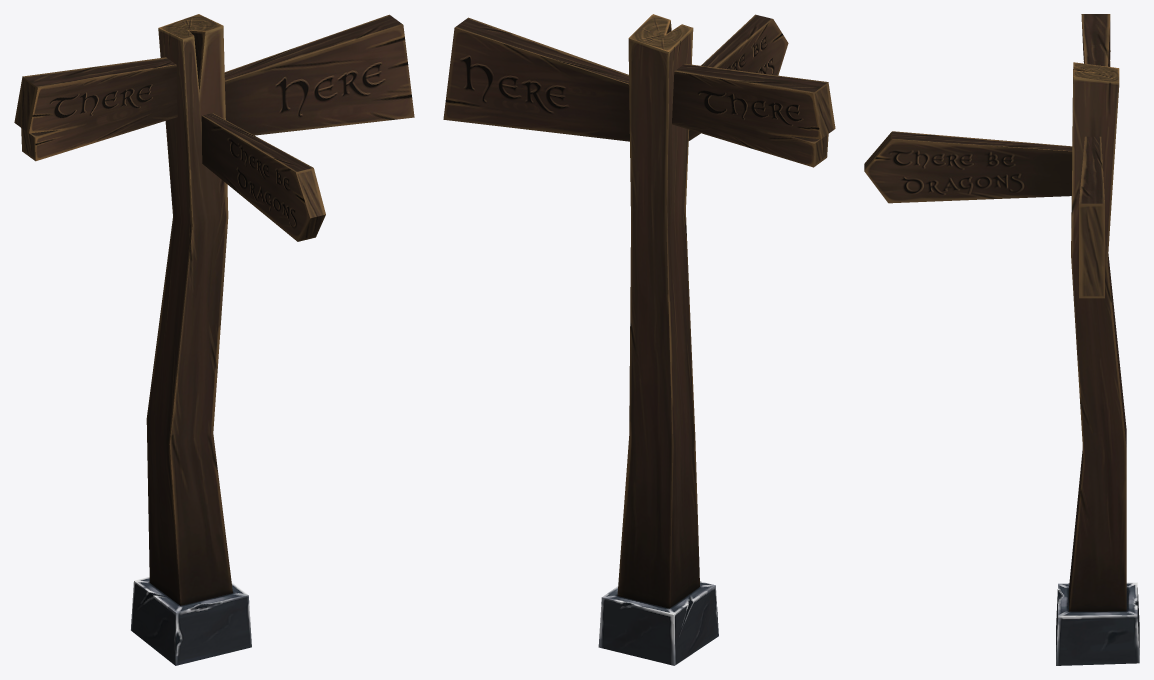
File: post_sign.fbx
The picture shows the model from 3 angles, left to right: view 1: azimuth 30°, elevation 25°; view 2: azimuth 150°, elevation 25°; view 3: azimuth 270°, elevation 25°; orthographic projection. The views are drawn at different scales.
Parts seen in each view (by area): view 1: post_sign; view 2: post_sign; view 3: post_sign.
Part boxes in pixels (left/top/right/bottom): post_sign: left=14, top=14, right=414, bottom=665; post_sign: left=443, top=14, right=835, bottom=665; post_sign: left=864, top=14, right=1139, bottom=665.
Size of the model in its own units: 2093 by 1391 by 3232.
1 material, 1 textured.
